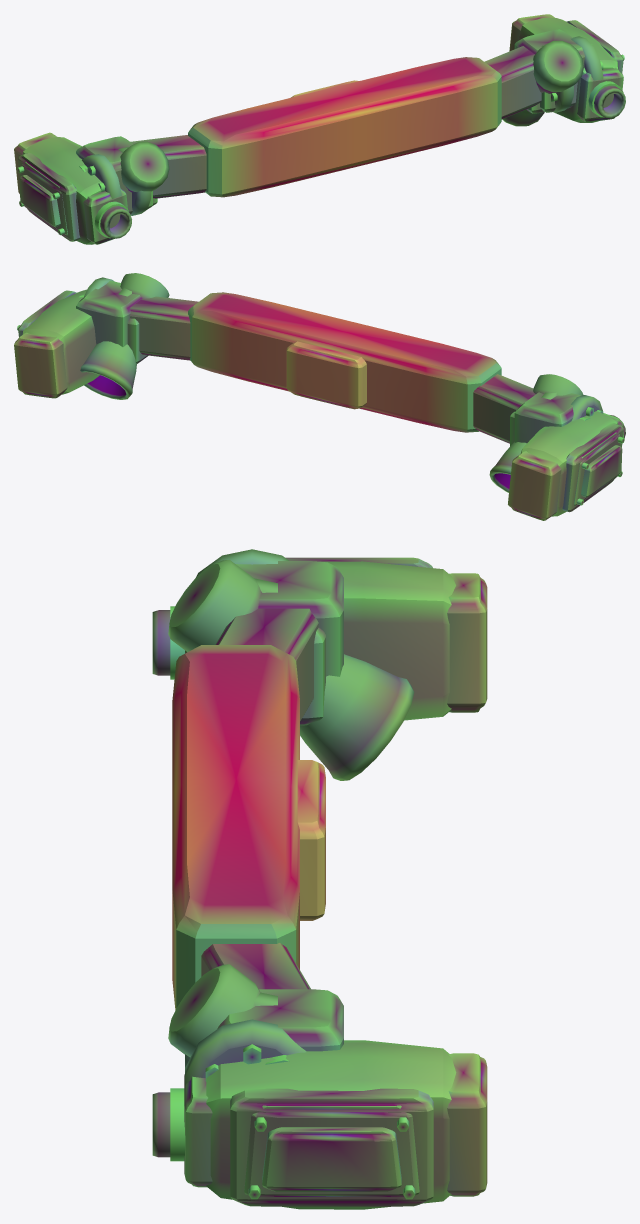
File: llm_gen_waist_ordnance_056_4a6c5d.glb
3 renders of one model, top to bottom at view 1: azimuth 30°, elevation 25°; view 2: azimuth 150°, elevation 25°; view 3: azimuth 270°, elevation 25°, orthographic. The views are drawn at different scales.
Parts seen in each view (by area): view 1: adapter_waist_rear_yoke_dark, adapter_waist_arm_l, cannon_casing_1_adapter_dark_l, adapter_waist_arm_r, addon_waist_bell_9_vernier_bell_gimbal_collar_dark_r, cannon_capacitor_plate_7_barrel_metal_l, addon_waist_bell_9_vernier_bell_gimbal_collar_dark_l, cannon_casing_1_adapter_dark_r, adapter_sub_cap_frame_dark_6_adapter_dark_l, servo_0_servo_accent_l, adapter_waist_swivel_l, adapter_sub_muzzle_collar_dark_3_adapter_dark_r (+9 smaller); view 2: adapter_waist_rear_yoke_dark, adapter_waist_center_latch_gold, cannon_casing_1_adapter_dark_r, adapter_waist_arm_r, adapter_sub_breech_cap_dark_2_adapter_dark_r, adapter_sub_breech_cap_dark_2_adapter_dark_l, cannon_casing_1_adapter_dark_l, adapter_waist_arm_l, addon_waist_bell_9_vernier_bell_vernier_r, adapter_waist_swivel_r, adapter_waist_swivel_l, cannon_capacitor_plate_7_barrel_metal_l (+7 smaller); view 3: adapter_waist_rear_yoke_dark, cannon_capacitor_plate_7_barrel_metal_r, cannon_casing_1_adapter_dark_r, cannon_casing_1_adapter_dark_l, adapter_sub_cap_frame_dark_6_adapter_dark_r, addon_waist_bell_9_vernier_bell_vernier_l, adapter_sub_breech_cap_dark_2_adapter_dark_r, adapter_waist_swivel_l, adapter_sub_breech_cap_dark_2_adapter_dark_l, addon_waist_bell_9_vernier_bell_gimbal_collar_dark_l, adapter_waist_swivel_r, addon_waist_bell_9_vernier_bell_gimbal_collar_dark_r (+10 smaller).
Part boxes in pixels (box(x1,y1,x2,y2)): adapter_waist_rear_yoke_dark: box(188, 57, 501, 197); adapter_waist_arm_l: box(130, 135, 206, 198); cannon_casing_1_adapter_dark_l: box(23, 137, 120, 244); adapter_waist_arm_r: box(484, 46, 541, 119); addon_waist_bell_9_vernier_bell_gimbal_collar_dark_r: box(533, 40, 583, 93); cannon_capacitor_plate_7_barrel_metal_l: box(17, 162, 67, 235); addon_waist_bell_9_vernier_bell_gimbal_collar_dark_l: box(120, 141, 169, 192); cannon_casing_1_adapter_dark_r: box(519, 18, 618, 122); adapter_sub_cap_frame_dark_6_adapter_dark_l: box(18, 153, 80, 241); servo_0_servo_accent_l: box(82, 147, 150, 215); adapter_waist_swivel_l: box(76, 136, 152, 214); adapter_sub_muzzle_collar_dark_3_adapter_dark_r: box(577, 67, 623, 122); adapter_waist_rear_yoke_dark: box(188, 292, 501, 432); adapter_waist_center_latch_gold: box(286, 341, 366, 409); cannon_casing_1_adapter_dark_r: box(22, 289, 99, 394); adapter_waist_arm_r: box(130, 296, 198, 360); adapter_sub_breech_cap_dark_2_adapter_dark_r: box(14, 332, 67, 398); adapter_sub_breech_cap_dark_2_adapter_dark_l: box(508, 451, 561, 520); cannon_casing_1_adapter_dark_l: box(520, 411, 617, 516); adapter_waist_arm_l: box(473, 374, 535, 443); addon_waist_bell_9_vernier_bell_vernier_r: box(80, 341, 136, 399); adapter_waist_swivel_r: box(76, 281, 142, 346); adapter_waist_swivel_l: box(514, 392, 580, 443); cannon_capacitor_plate_7_barrel_metal_l: box(574, 432, 624, 505); adapter_waist_rear_yoke_dark: box(172, 645, 299, 1010); cannon_capacitor_plate_7_barrel_metal_r: box(244, 1105, 419, 1199); cannon_casing_1_adapter_dark_r: box(206, 1040, 456, 1209); cannon_casing_1_adapter_dark_l: box(321, 561, 455, 720); adapter_sub_cap_frame_dark_6_adapter_dark_r: box(230, 1088, 433, 1206); addon_waist_bell_9_vernier_bell_vernier_l: box(300, 654, 414, 780); adapter_sub_breech_cap_dark_2_adapter_dark_r: box(447, 1053, 487, 1196); adapter_waist_swivel_l: box(236, 561, 343, 676); adapter_sub_breech_cap_dark_2_adapter_dark_l: box(447, 573, 487, 712); addon_waist_bell_9_vernier_bell_gimbal_collar_dark_l: box(168, 559, 261, 651); adapter_waist_swivel_r: box(217, 989, 343, 1051); addon_waist_bell_9_vernier_bell_gimbal_collar_dark_r: box(168, 964, 260, 1057).
Bounding box in the file's own units: 66.39 × 11.6 × 16.8.
